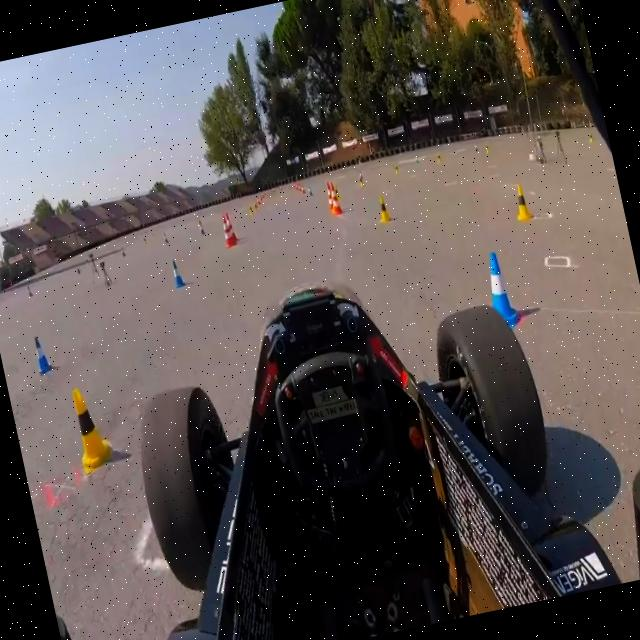blue_cone: (474, 246, 522, 332), (31, 332, 50, 376), (170, 259, 184, 289), (307, 185, 313, 198), (358, 169, 364, 180), (474, 143, 480, 154), (414, 155, 420, 165), (200, 225, 204, 235)
large_orange_cone: (322, 180, 337, 212), (328, 181, 342, 215), (224, 212, 238, 243), (220, 215, 233, 247)
orange_cone: (300, 185, 306, 194), (256, 197, 261, 206), (297, 185, 302, 192), (260, 194, 262, 201)
yellow_cone: (67, 386, 115, 471), (511, 183, 534, 223), (378, 198, 392, 224), (333, 185, 341, 199), (587, 131, 595, 145), (248, 204, 255, 218), (394, 163, 401, 174), (484, 144, 490, 155), (359, 175, 364, 187), (253, 201, 259, 211), (437, 152, 442, 164)
